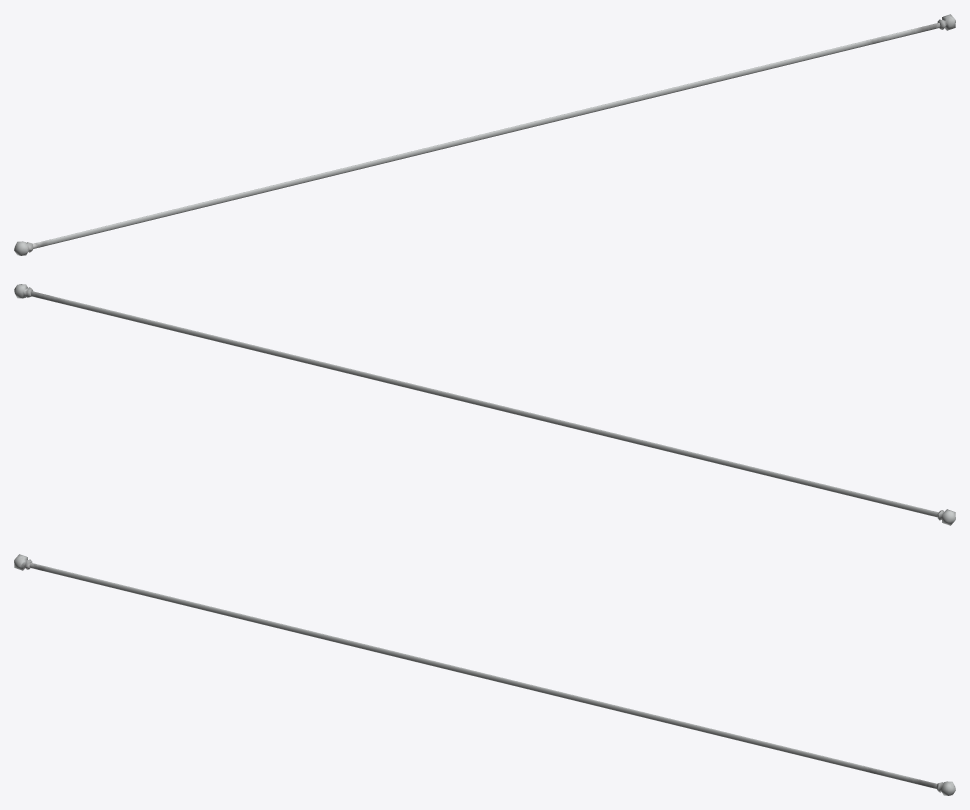
File: fbx_SuporteCortina.fbx
The picture shows the model from 3 angles, top to bottom: view 1: azimuth 30°, elevation 25°; view 2: azimuth 150°, elevation 25°; view 3: azimuth 330°, elevation 25°; orthographic projection.
Parts seen in each view (by area): view 1: polySurface5; view 2: polySurface5; view 3: polySurface5.
Boxes of the visible parts, left/top/right/bottom form: polySurface5: left=14, top=14, right=955, bottom=255; polySurface5: left=14, top=284, right=955, bottom=525; polySurface5: left=14, top=554, right=955, bottom=795.
Bounding box in the file's own units: 377 × 5.1 × 5.53.
1 material, 1 textured.
